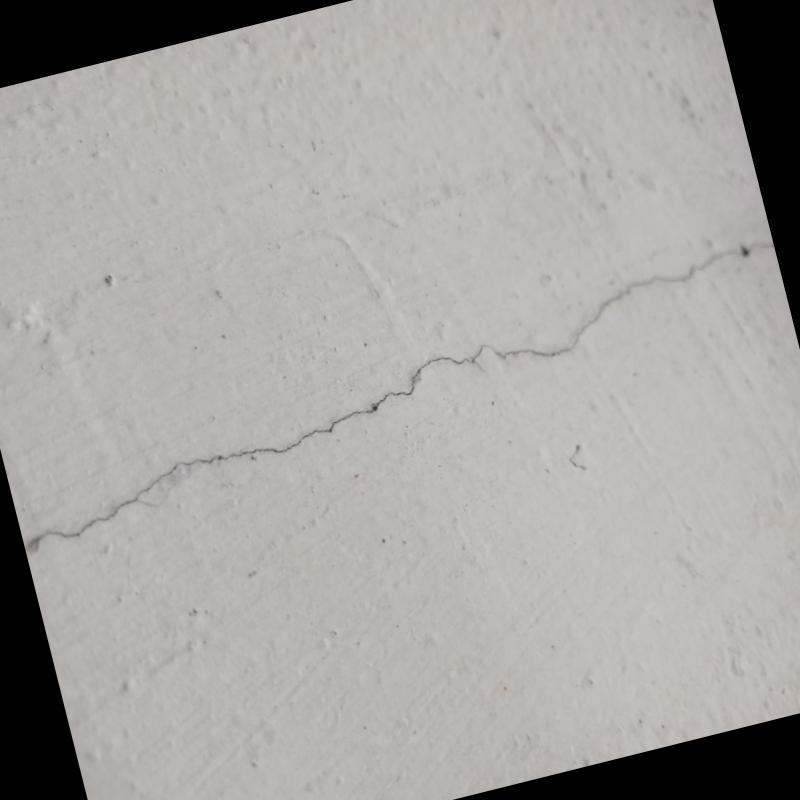pothole: (26, 237, 768, 558)
